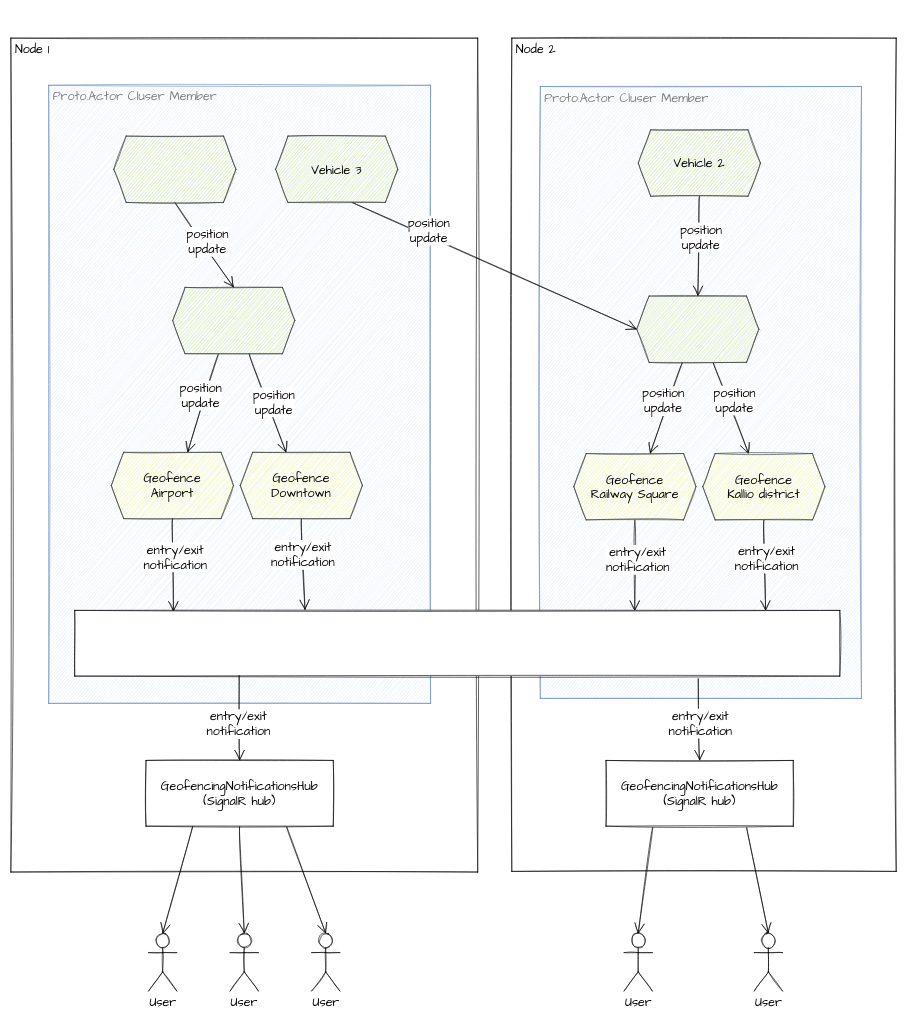
The diagram is 907 pixels wide and 1021 high, and some of its shapes have lost their labels. Each missing label, with the centre of its shape:
"Organization A" goes at (233,320).
"Organization B" goes at (697,328).
"Proto.Actor's EventStream" goes at (457,643).
"Vehicle 1" goes at (174,168).
